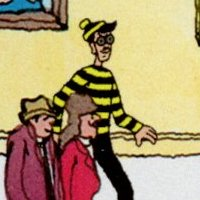odlaw: (88, 19, 114, 61)
